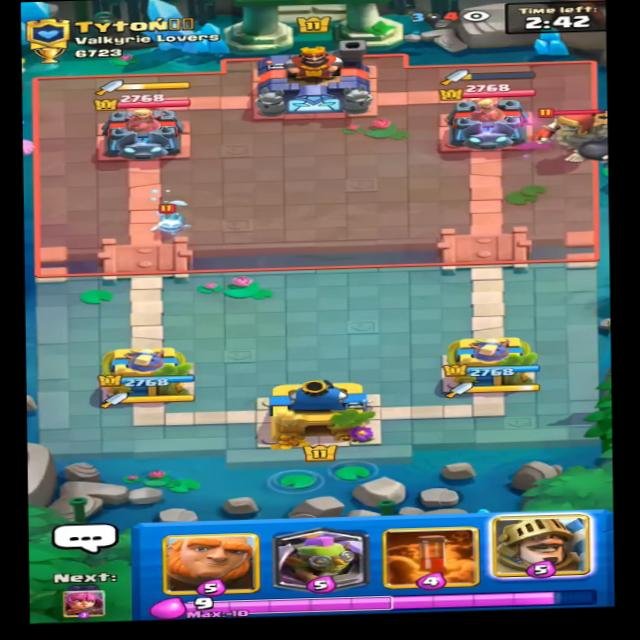giant-skeleton: (532, 100, 633, 162)
ice-spirit: (147, 205, 190, 233)
